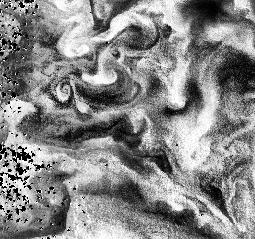CE: (101, 66, 118, 83), (56, 84, 71, 101)
